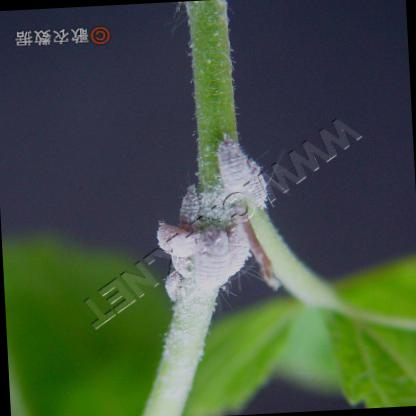mealy bug: (193, 226, 230, 289), (218, 138, 250, 194), (155, 222, 204, 257), (228, 226, 252, 272), (175, 188, 199, 231), (248, 160, 269, 208)
